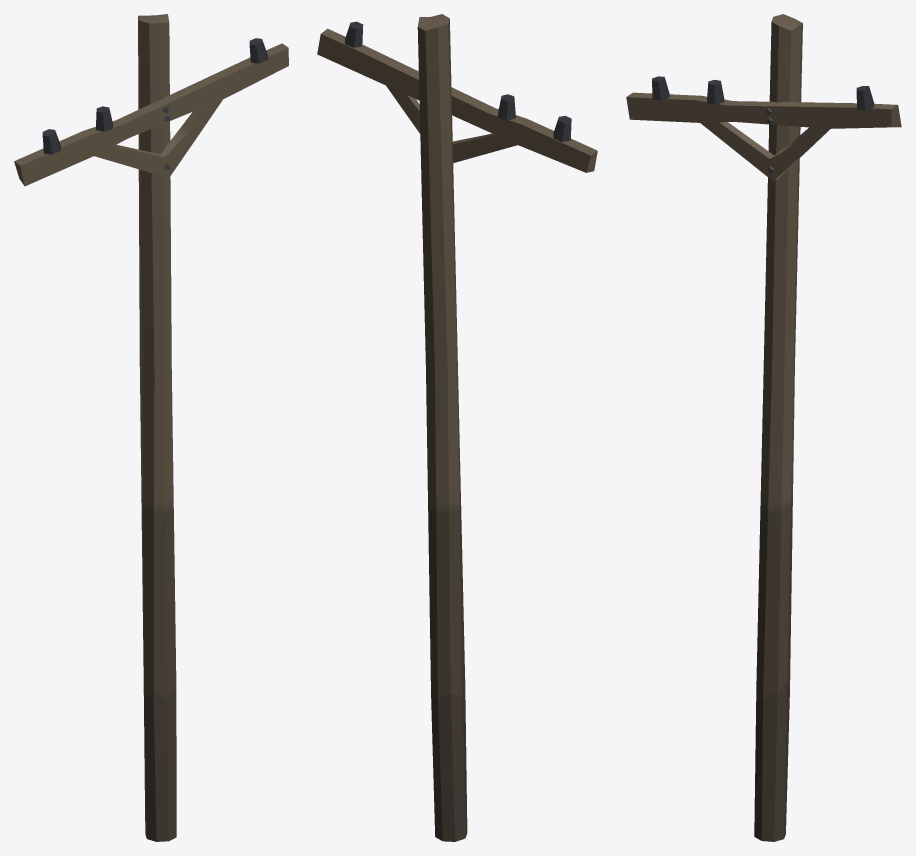
Rendered from SM_Prop_Powerpole_02.glb.
3 views of the same model, side by side, from view 1: azimuth 30°, elevation 25°; view 2: azimuth 150°, elevation 25°; view 3: azimuth 330°, elevation 25° (orthographic).
Visible parts, largest first — view 1: SM_Prop_Powerpole_02; view 2: SM_Prop_Powerpole_02; view 3: SM_Prop_Powerpole_02.
Boxes of the visible parts, x1,y1,x2,y2 form: SM_Prop_Powerpole_02: [14, 14, 288, 841]; SM_Prop_Powerpole_02: [317, 14, 597, 841]; SM_Prop_Powerpole_02: [626, 14, 901, 841].
Bounding box in the file's own units: 2.22 × 6.32 × 0.404.
Materials: 1 (1 with a texture image).
